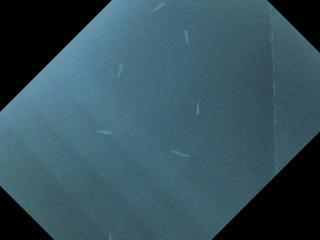crack: (264, 3, 285, 174)
scratch: (112, 59, 129, 83), (167, 146, 196, 160), (188, 98, 207, 119), (149, 0, 168, 17), (178, 27, 194, 46), (93, 125, 114, 138)
